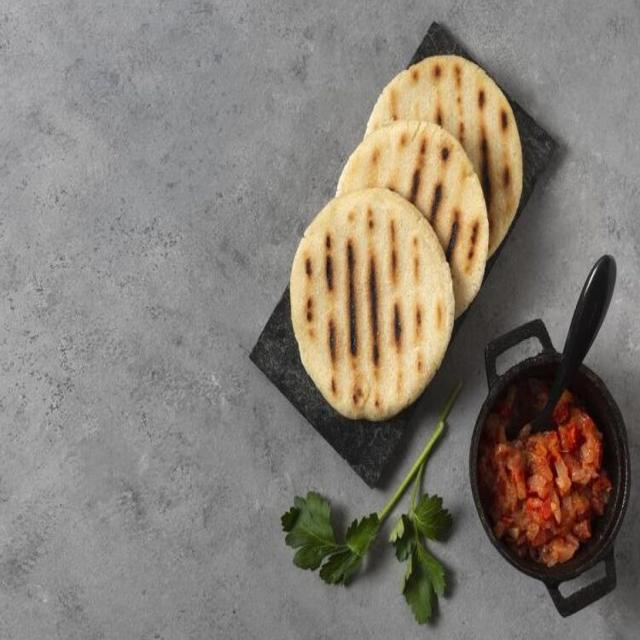arepa: (284, 186, 450, 434)
